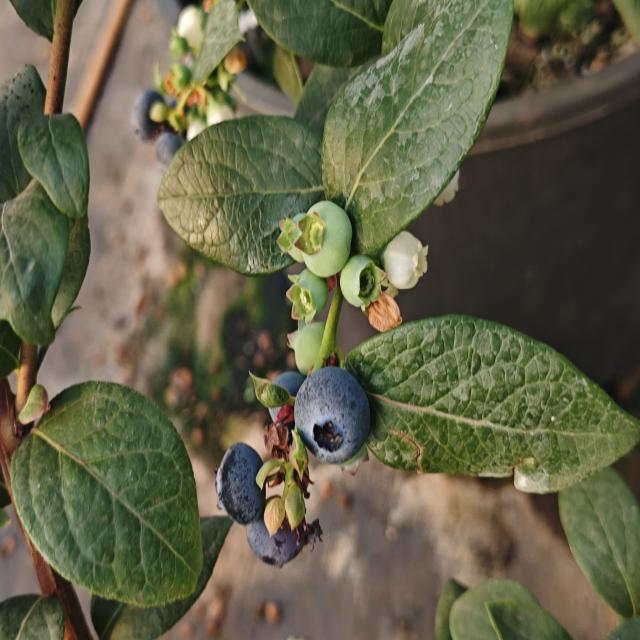ripe: (292, 363, 374, 469), (255, 357, 310, 437), (220, 444, 265, 527), (246, 525, 303, 574), (127, 82, 168, 144), (153, 132, 185, 177)
